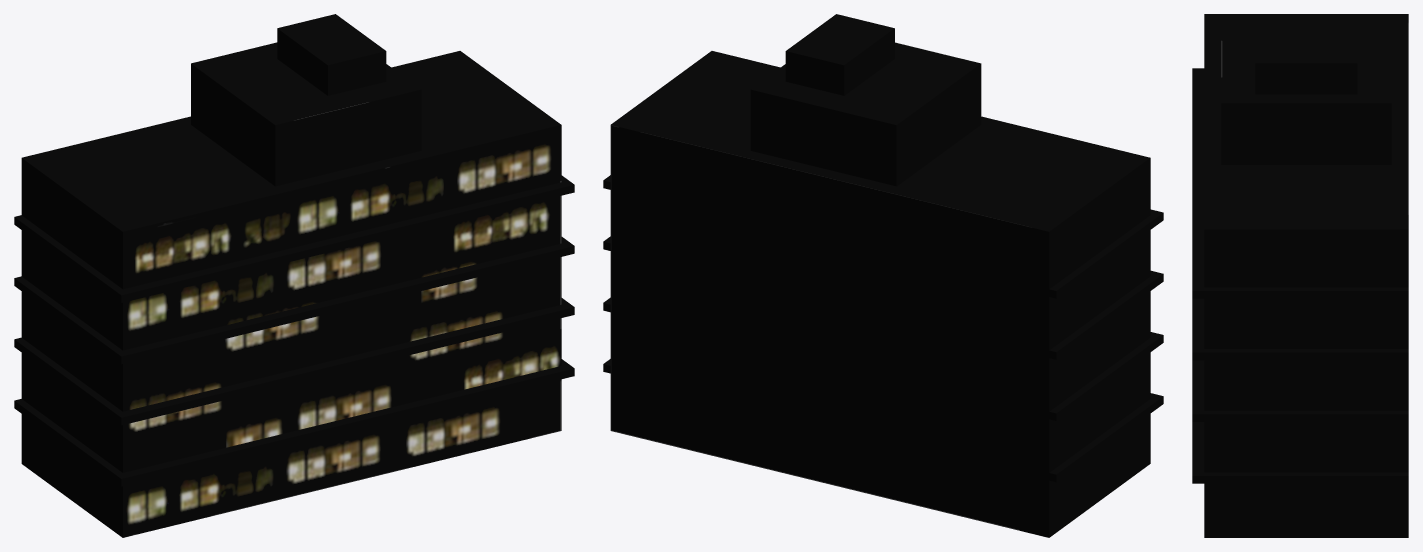
The model's file is building_1.glb.
3 renders of one model, left to right at view 1: azimuth 30°, elevation 25°; view 2: azimuth 150°, elevation 25°; view 3: azimuth 270°, elevation 25°, orthographic.
Parts seen in each view (by area): view 1: SlabBuilding; view 2: SlabBuilding; view 3: SlabBuilding.
Boxes of the visible parts, x1,y1,x2,y2 form: SlabBuilding: (14,14,574,537); SlabBuilding: (603,14,1163,537); SlabBuilding: (1192,14,1408,537).
Bounding box in the file's own units: 31 × 26 × 12.7.
1 material, 1 textured.
